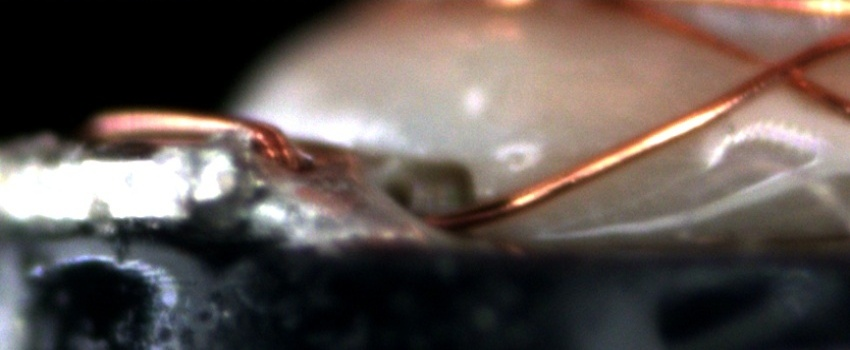CL: (737, 42, 816, 98)
TE: (76, 105, 307, 172)
